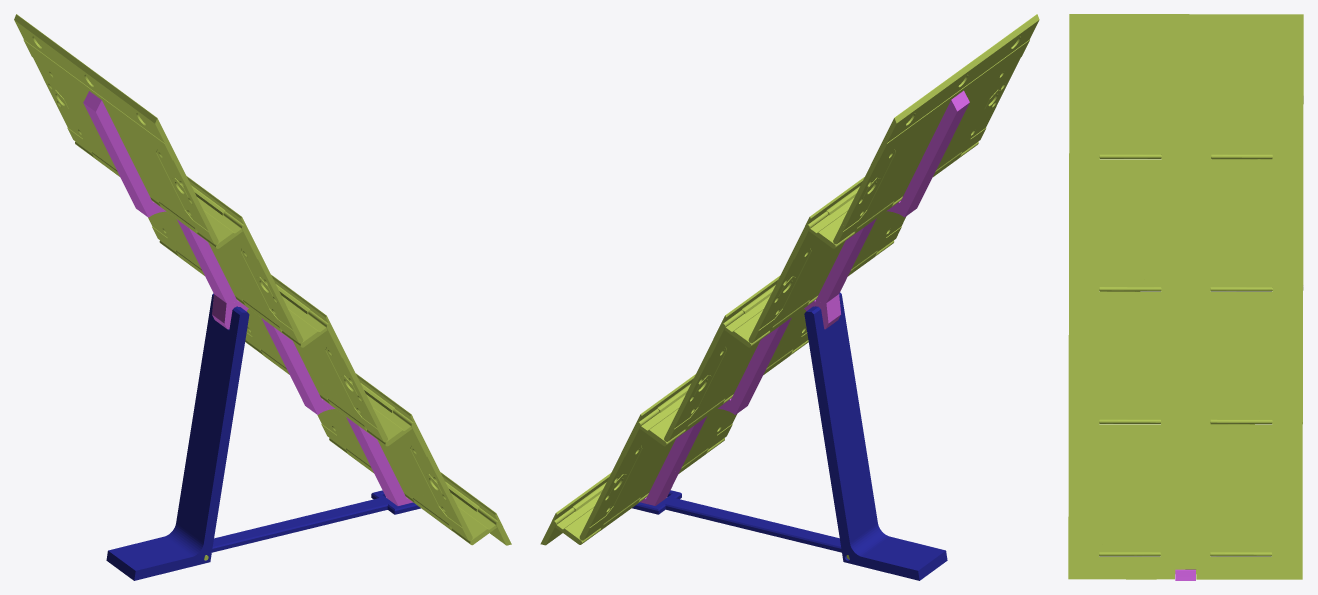
The model's file is Standwooooo.glb.
3 views of the same model, side by side, from view 1: azimuth 30°, elevation 25°; view 2: azimuth 150°, elevation 25°; view 3: azimuth 270°, elevation 25° (orthographic). The views are drawn at different scales.
Visible parts, largest first — view 1: wztgtrt4qse5wryg; view 2: wztgtrt4qse5wryg; view 3: wztgtrt4qse5wryg.
Boxes of the visible parts, bbox=[...] form: wztgtrt4qse5wryg: bbox=[14, 14, 511, 580]; wztgtrt4qse5wryg: bbox=[540, 14, 1039, 580]; wztgtrt4qse5wryg: bbox=[1068, 14, 1303, 580].
Size of the model in its own units: 224 by 304 by 153.
